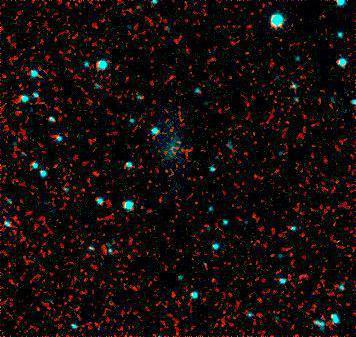star: (80, 158, 110, 188)
